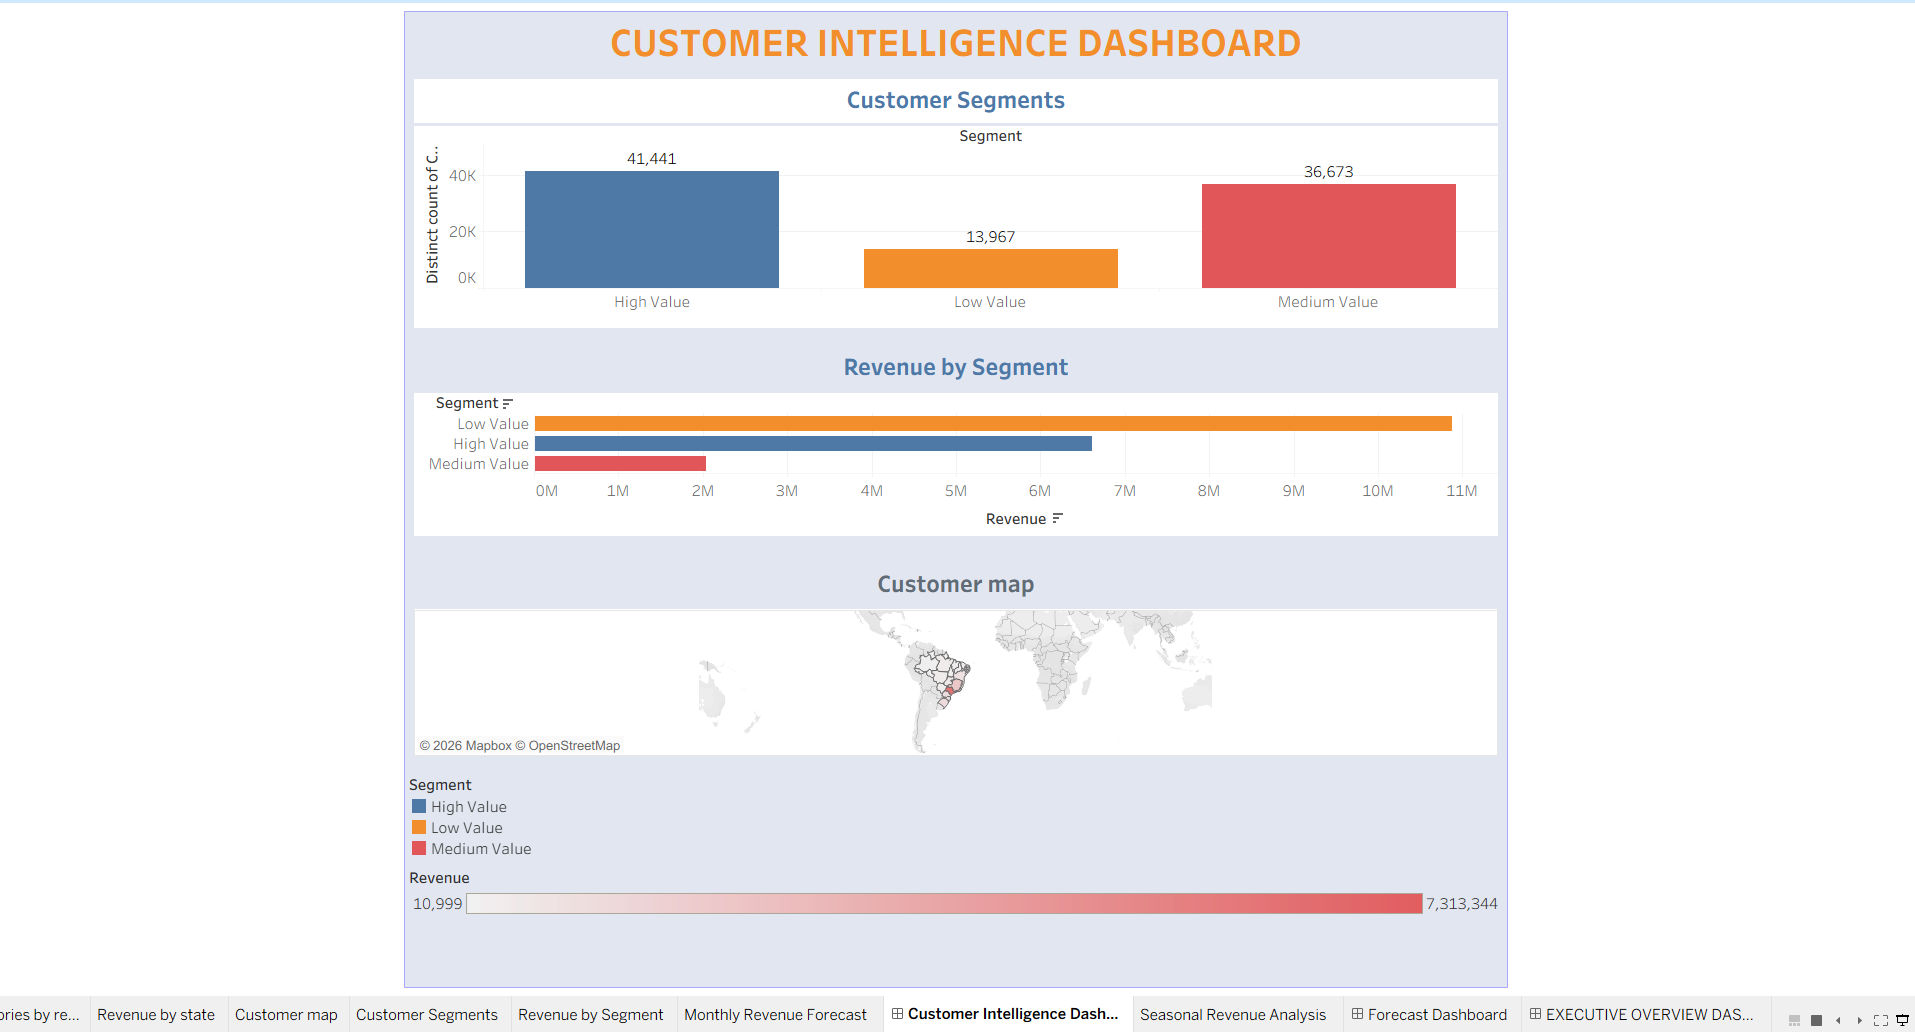

Layout of this report page (visuals, bound fields, positions):
{"tool":"tableau","page":{"name":"Customer Intelligence Dashboard","canvas":[1000,1000],"units":"permille","ordinal":0},"visuals":[{"type":"text","box":[8,9.4,983.9,60.4]},{"type":"worksheet","title":"Customer Segments","mark":"Automatic","rows":["customer_unique_id"],"cols":["Segment"],"box":[8,69.8,983.9,266.6]},{"type":"worksheet","title":"Revenue by Segment","mark":"Automatic","rows":["Segment"],"cols":["Revenue"],"box":[8,336.4,983.9,216.7]},{"type":"worksheet","title":"Customer map","mark":"Multipolygon","box":[8,554.5,983.9,218.1]},{"type":"legend","title":"Customer Segments","param":"[federated.0pj9mbj0e6u8be11r83yq0zex5pn].[none:Segment:nk]","box":[8,772.6,983.9,96.9]},{"type":"legend","title":"Customer map","param":"[federated.1iu7xvf0tfimf6150lxuo0pg1339].[sum:Revenue:qk]","box":[8,869.4,983.9,76]}]}

Visuals, with their boxes on the dashboard's canvas, which has no fixed pixel size, in thousandths of its width and height (x1, y1, x2, y2). These are canvas units, not pixel positions in the 1915x1032 screenshot, which may show the page scaled, cropped or inside an application window:
text: bbox(8, 9, 992, 70)
"Customer Segments" worksheet: bbox(8, 70, 992, 336)
"Revenue by Segment" worksheet: bbox(8, 336, 992, 553)
"Customer map" worksheet (Multipolygon marks): bbox(8, 554, 992, 773)
"Customer Segments" legend: bbox(8, 773, 992, 870)
"Customer map" legend: bbox(8, 869, 992, 945)
